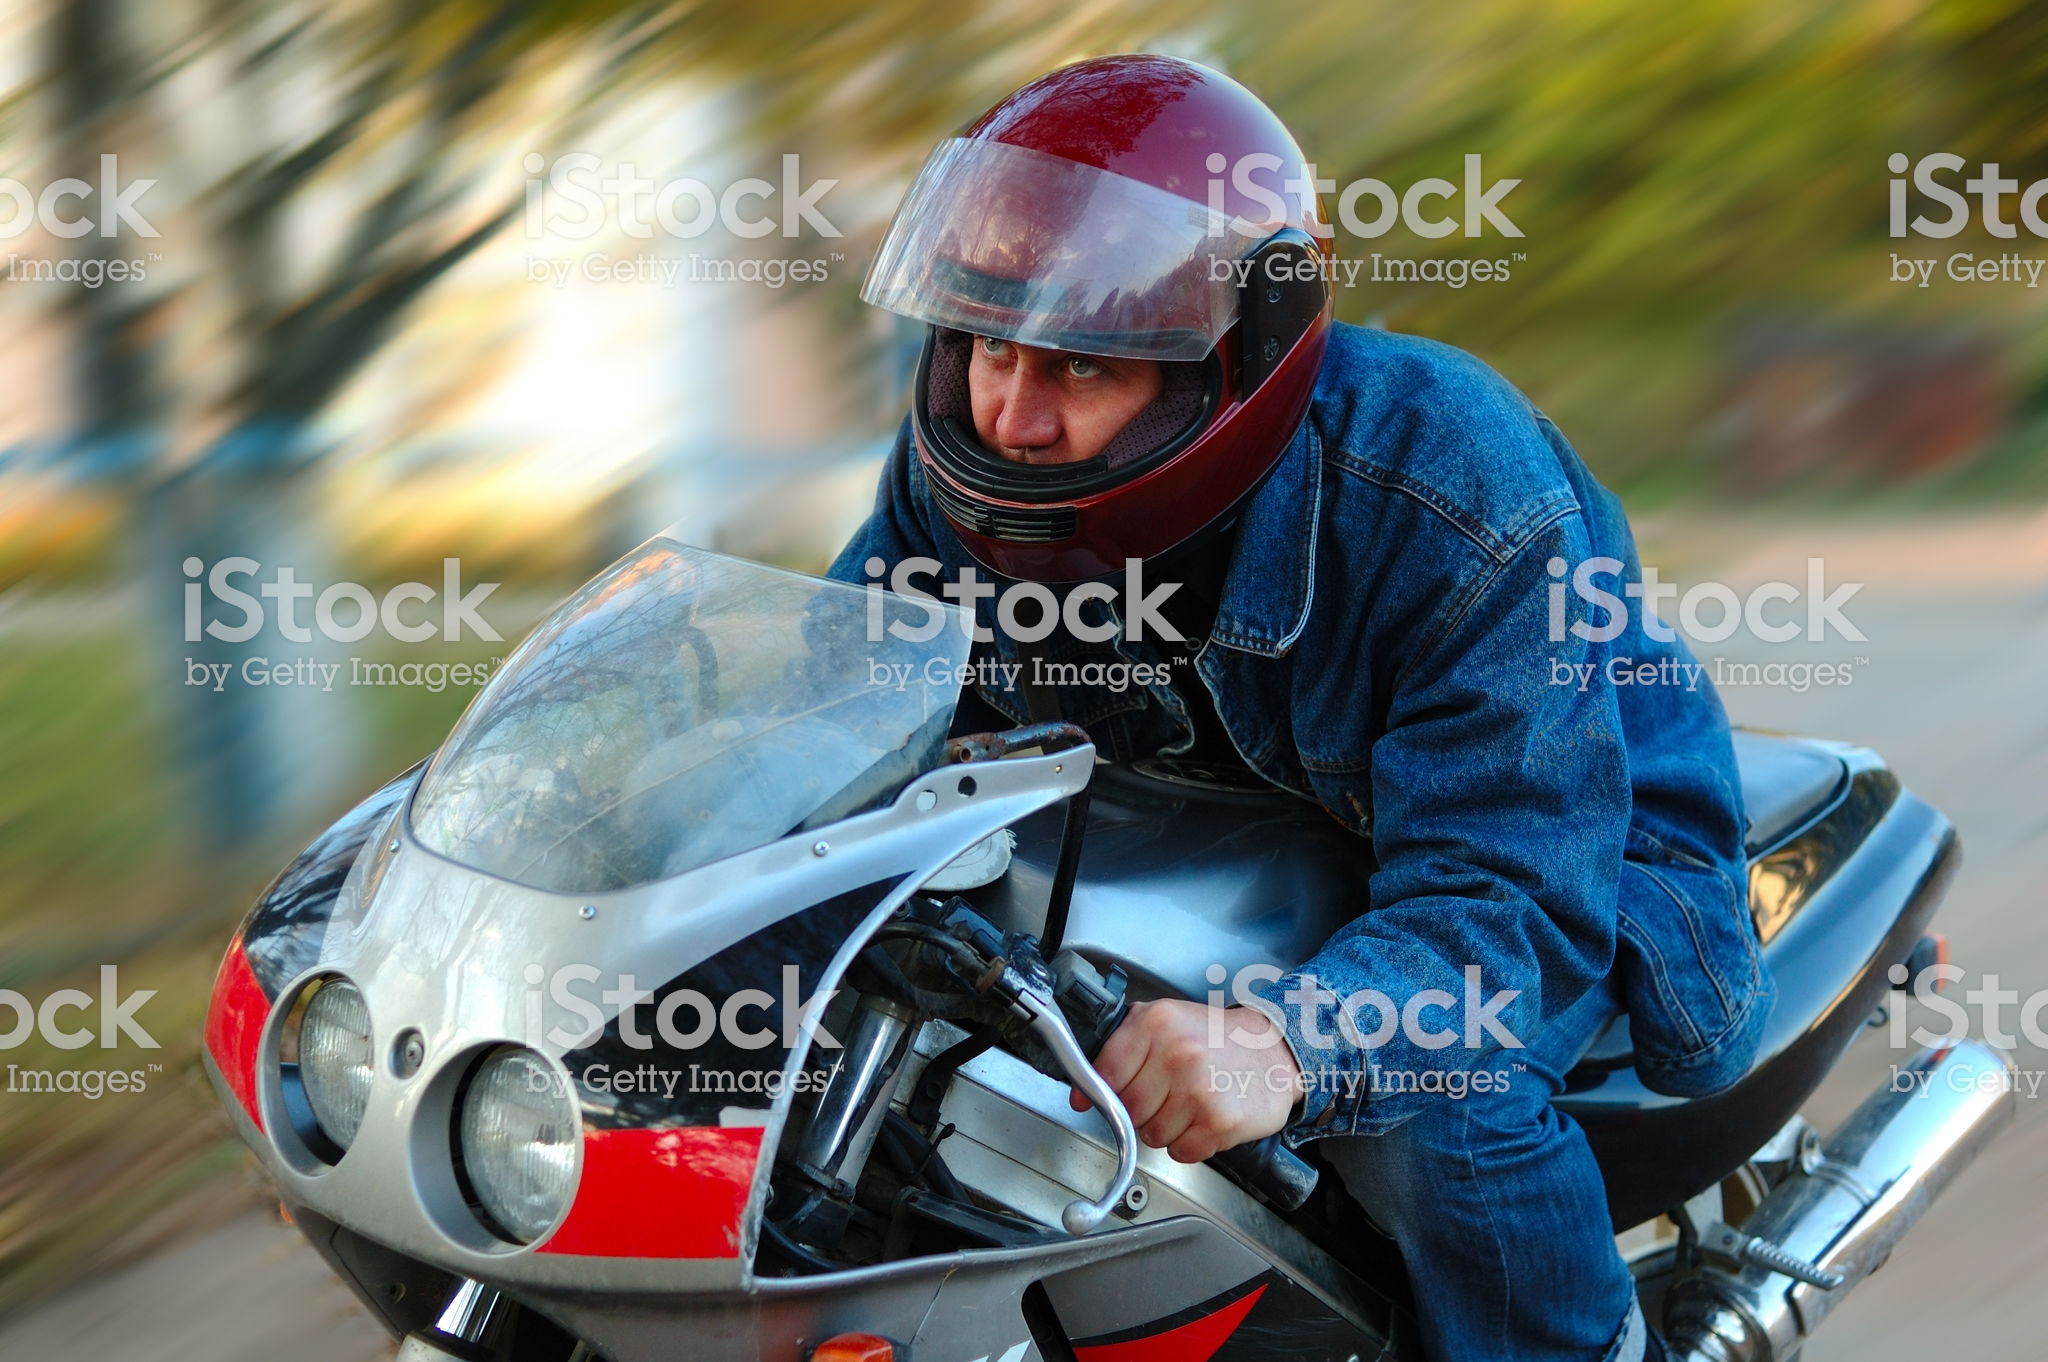helmet: (852, 52, 1342, 473)
